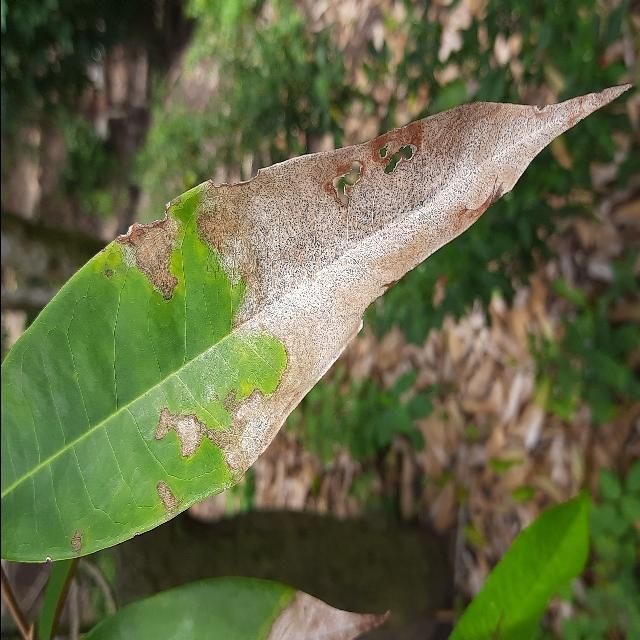Leaf Blight: (0, 79, 635, 575)
